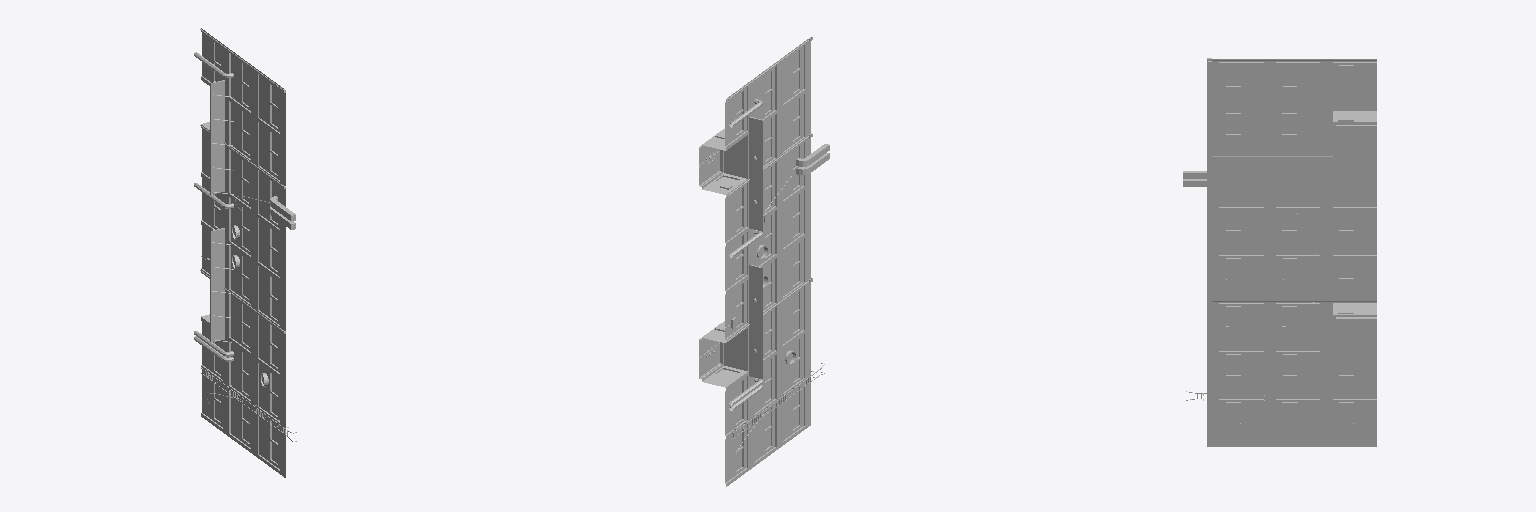
Rendered from BuildingWallB.obj.
3 renders of one model, left to right at view 1: azimuth 30°, elevation 25°; view 2: azimuth 150°, elevation 25°; view 3: azimuth 270°, elevation 25°, orthographic.
Visible parts, largest first — view 1: BuildingWallB; view 2: BuildingWallB; view 3: BuildingWallB.
Boxes of the visible parts, x1=… form: BuildingWallB: x1=194, y1=28, x2=296, y2=477; BuildingWallB: x1=699, y1=37, x2=829, y2=486; BuildingWallB: x1=1183, y1=58, x2=1376, y2=446.
Size of the model in its own units: 393 by 3605 by 1636.